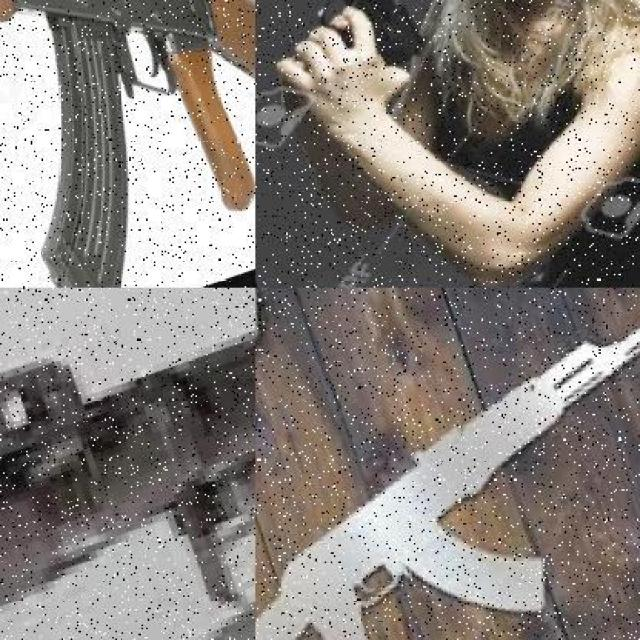weapon: (257, 303, 640, 640), (2, 291, 260, 640), (3, 0, 252, 285), (14, 6, 140, 288)
